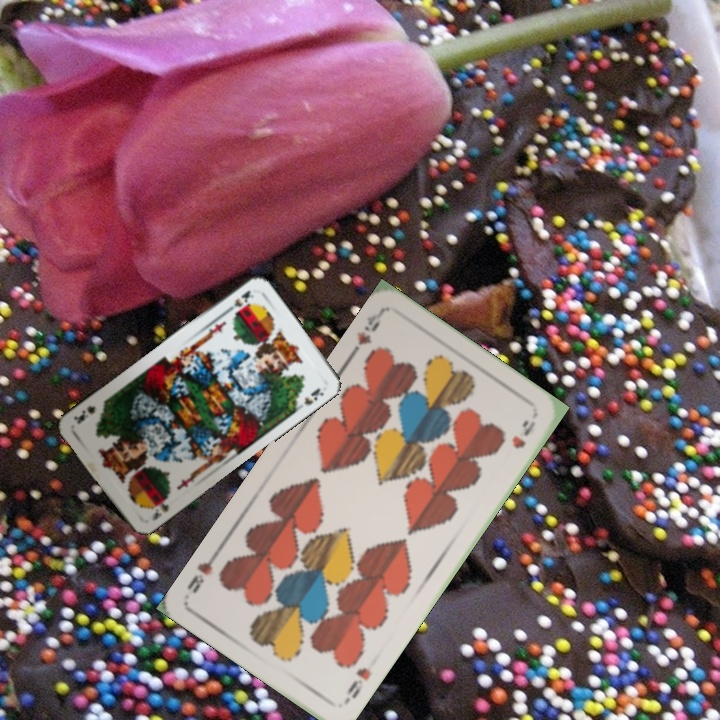H9: (345, 307, 386, 360), (342, 663, 375, 701)
SK: (221, 286, 257, 315), (144, 492, 171, 523)
